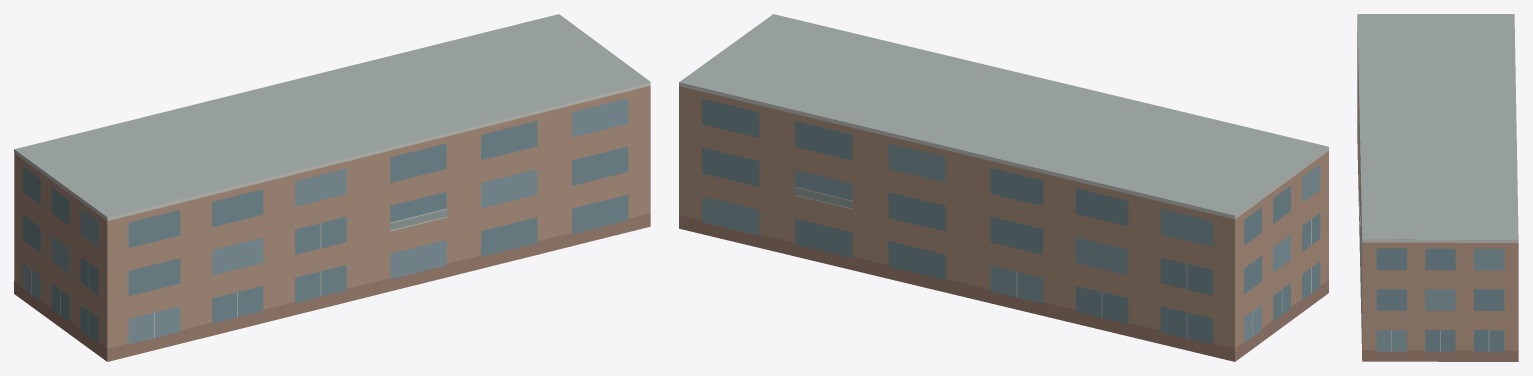
The model's file is survey-upis-32753230.glb.
3 views of the same model, side by side, from view 1: azimuth 30°, elevation 25°; view 2: azimuth 150°, elevation 25°; view 3: azimuth 270°, elevation 25° (orthographic). The views are drawn at different scales.
Parts seen in each view (by area): view 1: survey-upis-32753230.tmp; view 2: survey-upis-32753230.tmp; view 3: survey-upis-32753230.tmp.
Part boxes in pixels (box(x1,y1,x2,y2)): survey-upis-32753230.tmp: box(14, 14, 650, 361); survey-upis-32753230.tmp: box(679, 14, 1328, 361); survey-upis-32753230.tmp: box(1357, 14, 1518, 361).
Size of the model in its own units: 36.24 by 9.15 by 10.95.
